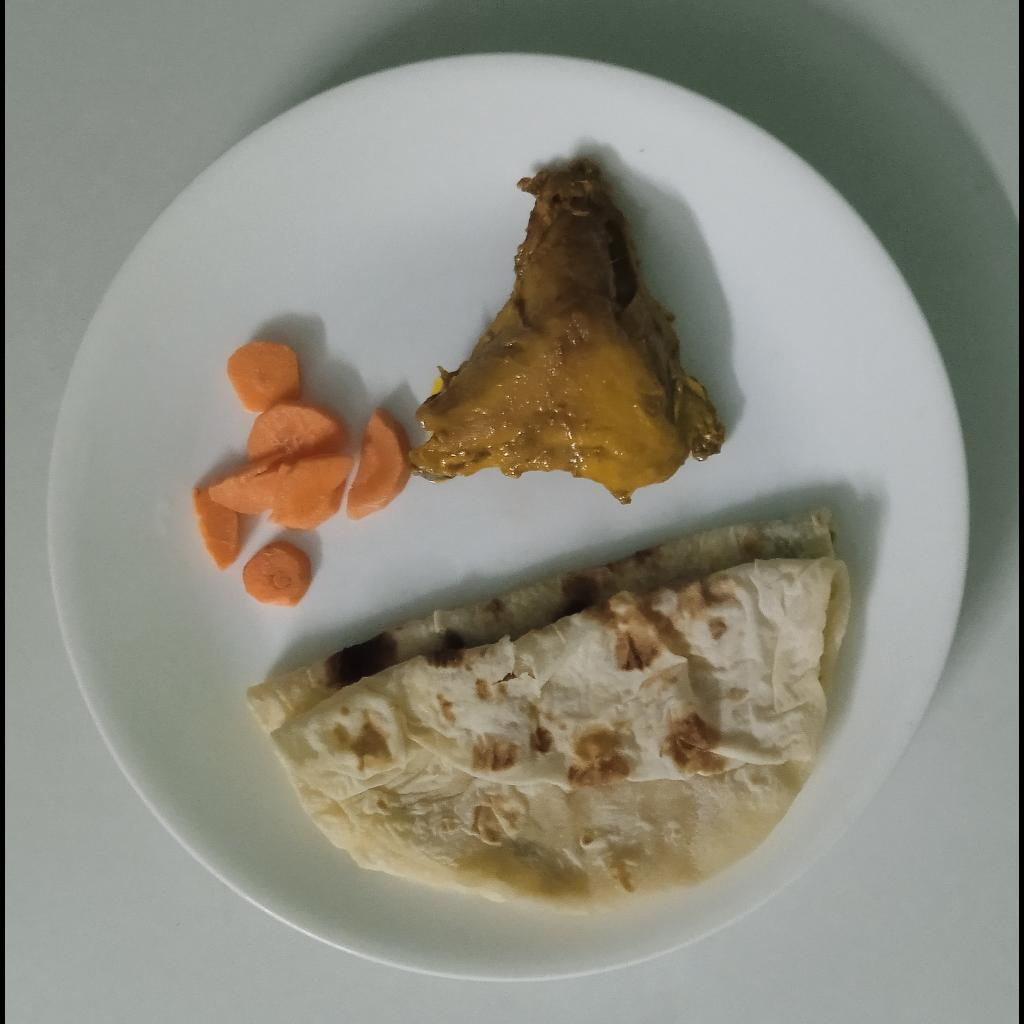carrot: (185, 336, 413, 569), (242, 538, 314, 614)
chicken: (406, 156, 731, 505)
ruti: (249, 510, 857, 904)
